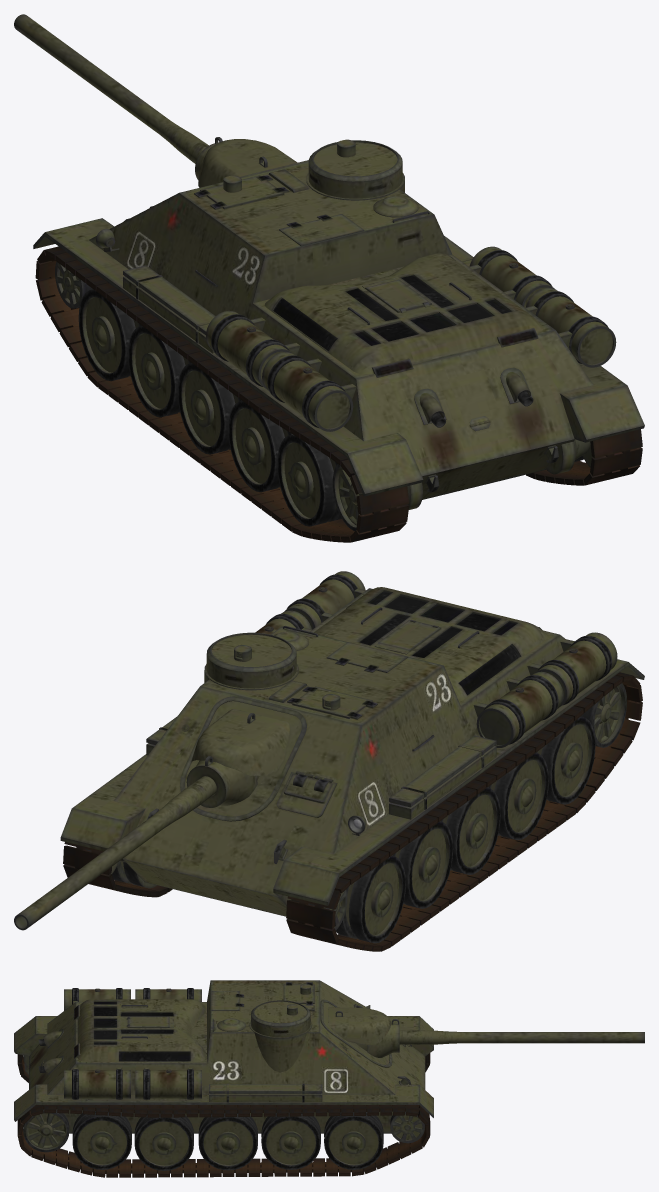
3 views of the same model, one above another, from view 1: azimuth 30°, elevation 25°; view 2: azimuth 150°, elevation 25°; view 3: azimuth 270°, elevation 25° (orthographic). The views are drawn at different scales.
Parts seen in each view (by area): view 1: V_su100__Body_1, V_su100__Body_2, V_su100__Gun_1, V_su100__W13_1, V_su100__W11_1, V_su100__W09_1, V_su100__W12_1, V_su100__W10_1, V_su100__W14_1, V_su100__W08_1, V_su100__W07_1; view 2: V_su100__Body_1, V_su100__Body_2, V_su100__Gun_1, V_su100__W09_1, V_su100__W12_1, V_su100__W11_1, V_su100__W10_1, V_su100__W13_1, V_su100__W14_1; view 3: V_su100__Body_1, V_su100__Body_2, V_su100__Gun_1, V_su100__W06_1, V_su100__W02_1, V_su100__W03_1, V_su100__W05_1, V_su100__W04_1, V_su100__W07_1, V_su100__W01_1.
Boxes of the visible parts, <box> form: V_su100__Body_1: <box>33,137,644,499</box>; V_su100__Body_2: <box>35,246,642,542</box>; V_su100__Gun_1: <box>14,14,297,187</box>; V_su100__W13_1: <box>277,434,341,526</box>; V_su100__W11_1: <box>177,363,241,454</box>; V_su100__W09_1: <box>78,289,141,381</box>; V_su100__W12_1: <box>228,401,292,492</box>; V_su100__W10_1: <box>128,326,191,417</box>; V_su100__W14_1: <box>332,464,422,531</box>; V_su100__W08_1: <box>55,261,92,308</box>; V_su100__W07_1: <box>546,439,593,474</box>; V_su100__Body_1: <box>60,571,644,916</box>; V_su100__Body_2: <box>63,672,642,951</box>; V_su100__Gun_1: <box>14,709,289,930</box>; V_su100__W09_1: <box>336,856,405,943</box>; V_su100__W12_1: <box>487,753,548,840</box>; V_su100__W11_1: <box>440,787,500,874</box>; V_su100__W10_1: <box>392,821,453,908</box>; V_su100__W13_1: <box>535,716,595,804</box>; V_su100__W14_1: <box>580,683,626,747</box>; V_su100__Body_1: <box>14,980,433,1133</box>; V_su100__Body_2: <box>17,1053,430,1177</box>; V_su100__Gun_1: <box>328,1007,644,1057</box>; V_su100__W06_1: <box>72,1111,131,1169</box>; V_su100__W02_1: <box>324,1112,383,1169</box>; V_su100__W03_1: <box>261,1112,320,1169</box>; V_su100__W05_1: <box>134,1113,193,1170</box>; V_su100__W04_1: <box>198,1113,257,1170</box>; V_su100__W07_1: <box>23,1109,69,1152</box>; V_su100__W01_1: <box>390,1111,424,1143</box>.
Size of the model in its own units: 8.67 by 6.29 by 24.55.
1 material, 1 textured.
